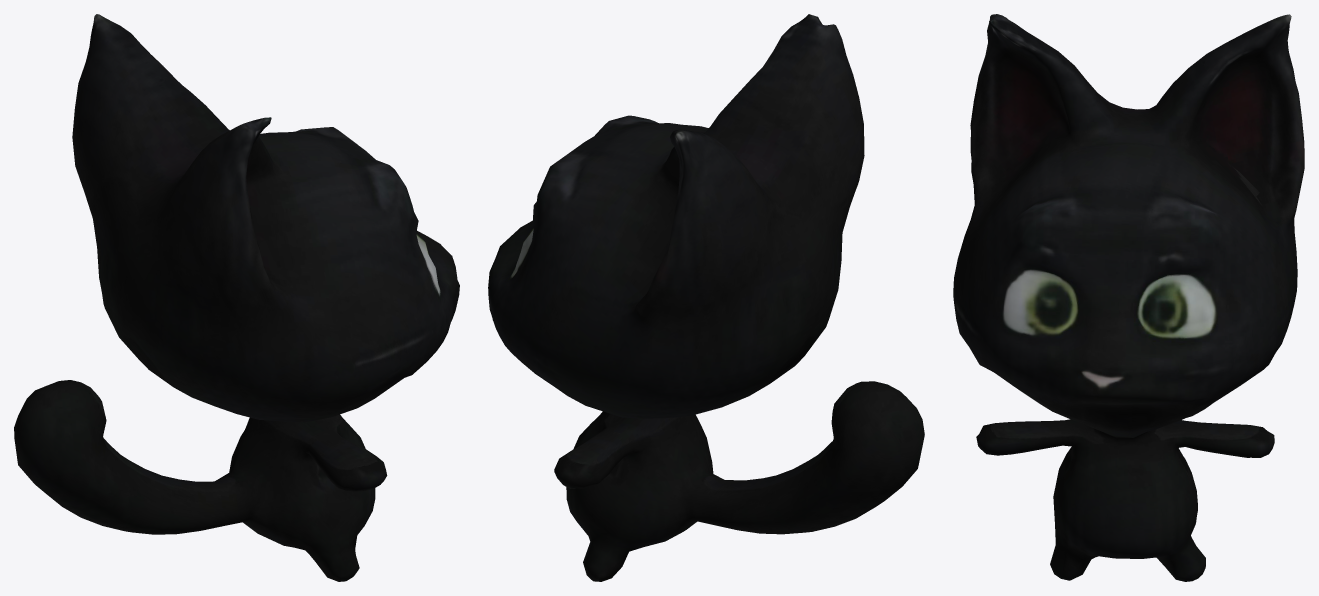
The model's file is blackCat2.glb.
3 renders of one model, left to right at view 1: azimuth 30°, elevation 25°; view 2: azimuth 150°, elevation 25°; view 3: azimuth 270°, elevation 25°, orthographic. The views are drawn at different scales.
Visible parts, largest first — view 1: mesh; view 2: mesh; view 3: mesh.
Boxes of the visible parts, x1,y1,x2,y2 form: mesh: [14, 14, 459, 581]; mesh: [488, 14, 924, 581]; mesh: [953, 14, 1304, 581].
Size of the model in its own units: 0.8429 by 0.9897 by 0.6226.
1 material, 1 textured.
